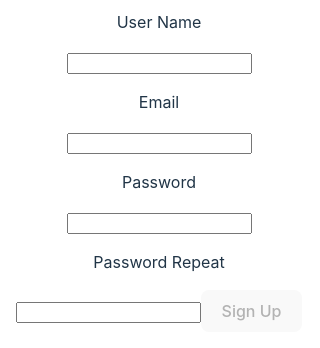
Scenario: SubmitForm › should enable button when password and repeat password same
The image size is (320, 348).
Type "any-password" into the 1st password field at (159, 224), box left=66, top=213, right=252, bottom=234
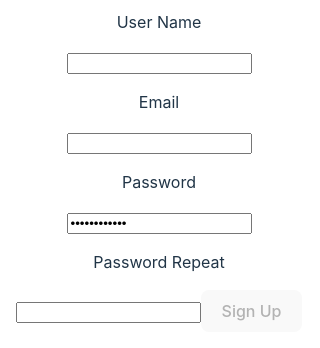
Type "any-password" into the 2nd password field at (109, 312), box left=16, top=302, right=201, bottom=323
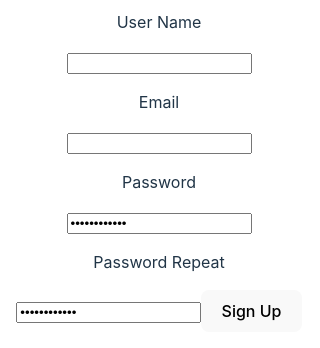
Expected: the button with class "submit" is enabled, left=201, top=290, right=302, bottom=332
